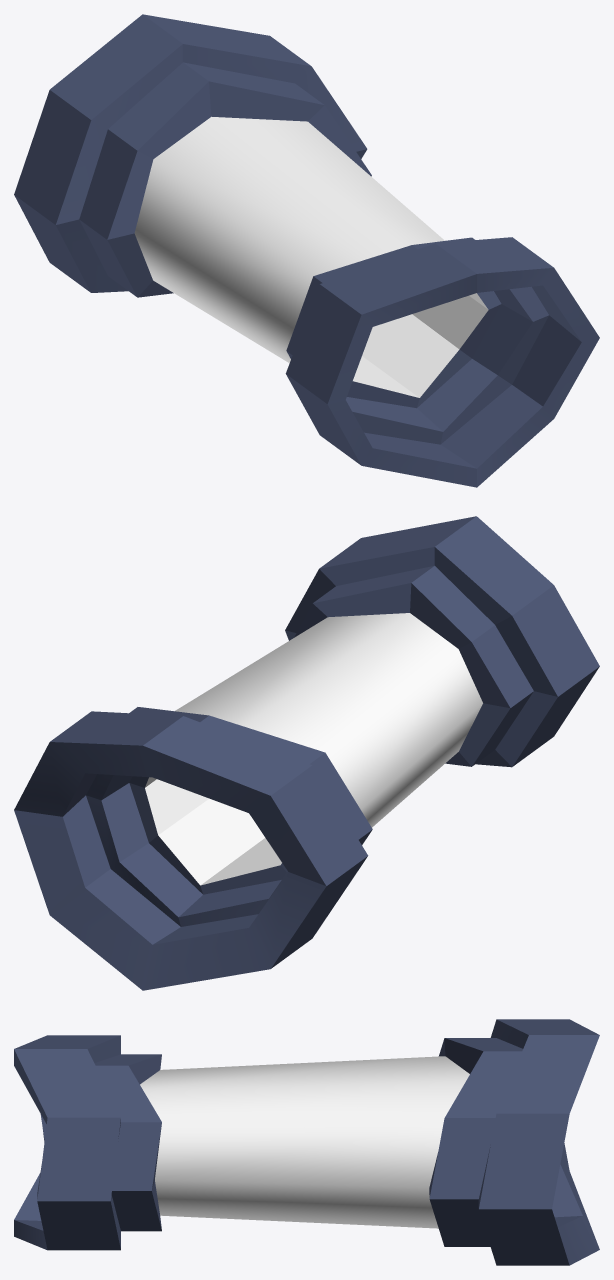
Rendered from Player_Wrist.glb.
3 views of the same model, one above another, from view 1: azimuth 30°, elevation 25°; view 2: azimuth 150°, elevation 25°; view 3: azimuth 270°, elevation 25° (orthographic). The views are drawn at different scales.
Visible parts, largest first — view 1: Cylinder; view 2: Cylinder; view 3: Cylinder.
Boxes of the visible parts, bbox=[...] form: Cylinder: bbox=[14, 14, 599, 487]; Cylinder: bbox=[14, 516, 599, 990]; Cylinder: bbox=[14, 1019, 599, 1265].
Size of the model in its own units: 0.0859 by 0.0644 by 0.1593.
